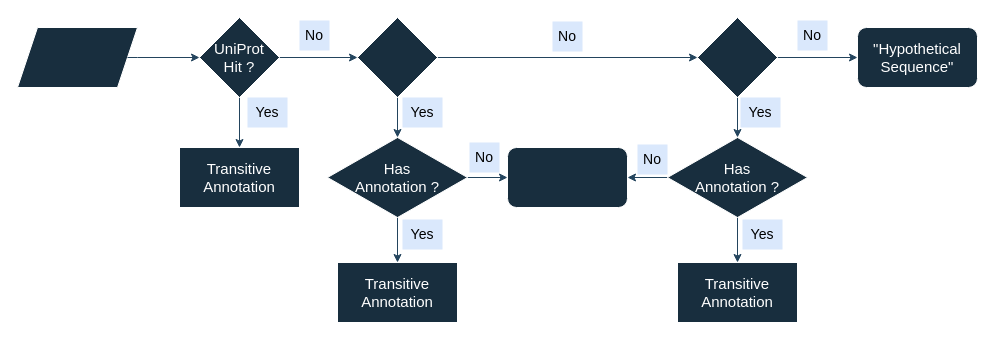
The diagram is 995 pixels wide and 340 high, and some of its shapes have lost their labels. The shapes that lost their labels are listed below. From the top down, each one's centre as x and y in pixels, then its label:
point (77, 57): Canidate Gene
point (397, 57): RefSeq Hit ?
point (737, 57): nr Hit ?
point (567, 177): "Conserved Hypothetical Sequence"
